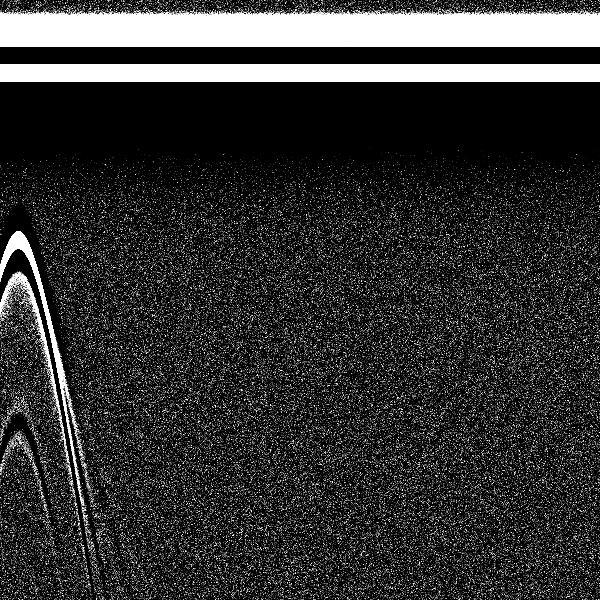pipe: (1, 5, 59, 335)
